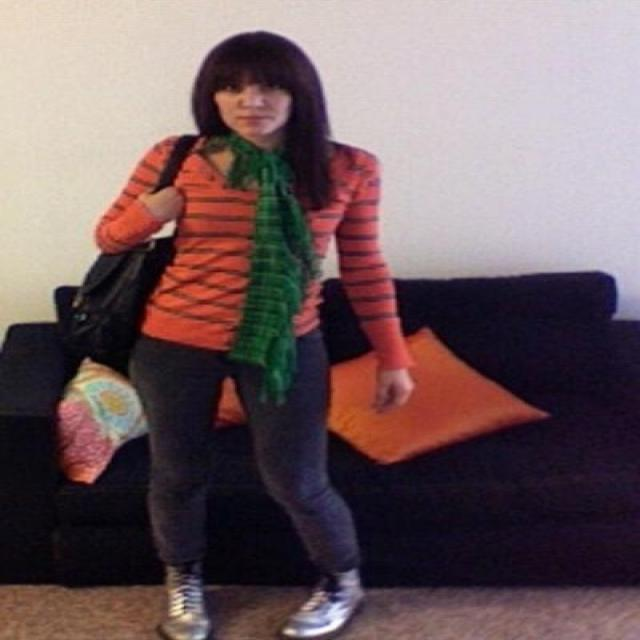bag: (32, 128, 224, 370)
jacket: (95, 137, 418, 355)
pants: (108, 326, 362, 575)
shoe: (158, 566, 362, 639)
